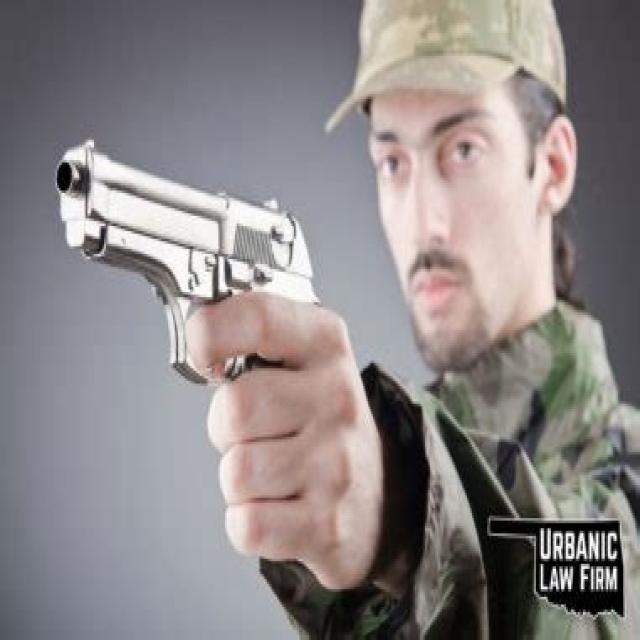weapons: (47, 119, 344, 455)
